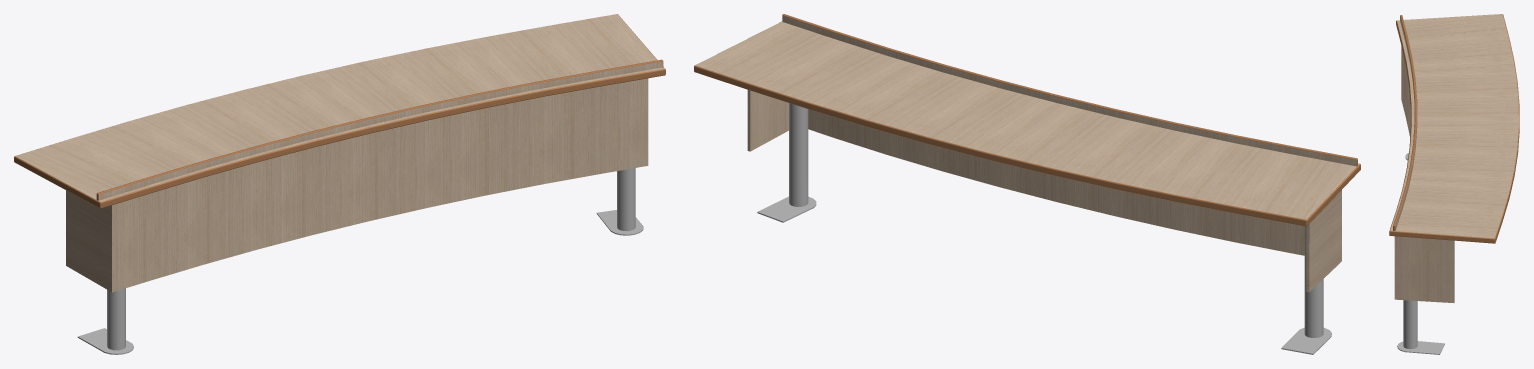
Rendered from SideTableD.fbx.
3 views of the same model, side by side, from view 1: azimuth 30°, elevation 25°; view 2: azimuth 150°, elevation 25°; view 3: azimuth 270°, elevation 25° (orthographic). The views are drawn at different scales.
Parts seen in each view (by area): view 1: SideTableD; view 2: SideTableD; view 3: SideTableD.
Boxes of the visible parts, x1=… form: SideTableD: x1=14, y1=14, x2=665, y2=354; SideTableD: x1=694, y1=14, x2=1360, y2=354; SideTableD: x1=1389, y1=14, x2=1519, y2=354.
Size of the model in its own units: 311 by 84.25 by 76.08.
3 materials, 1 textured.
